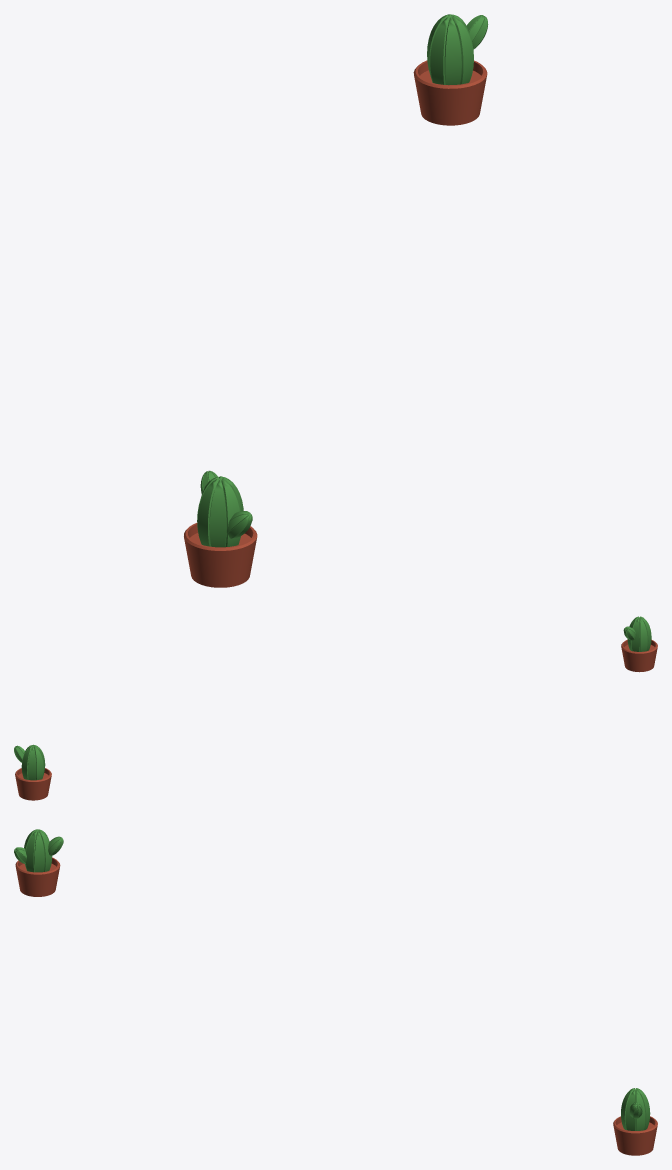
The model's file is cactus.glb.
3 renders of one model, top to bottom at view 1: azimuth 30°, elevation 25°; view 2: azimuth 150°, elevation 25°; view 3: azimuth 270°, elevation 25°, orthographic. The views are drawn at different scales.
Visible parts, largest first — view 1: Cactus1, Cactus2, Cactus1Leaf2, Cactus2Leaf1; view 2: Cactus1, Cactus2, Cactus1Leaf2, Cactus2Leaf1; view 3: Cactus1, Cactus2, Cactus2Leaf1, Cactus1Leaf2.
Part boxes in pixels (box(x1,y1,x2,y2)): Cactus1: box(413, 60, 487, 125); Cactus2: box(184, 523, 257, 587); Cactus1Leaf2: box(427, 14, 473, 85); Cactus2Leaf1: box(197, 476, 243, 547); Cactus1: box(15, 768, 51, 800); Cactus2: box(621, 639, 657, 672); Cactus1Leaf2: box(21, 744, 45, 780); Cactus2Leaf1: box(627, 616, 651, 651); Cactus1: box(613, 1116, 657, 1155); Cactus2: box(15, 857, 60, 896); Cactus2Leaf1: box(24, 829, 52, 872); Cactus1Leaf2: box(621, 1088, 650, 1130).
Size of the model in its own units: 2.11 by 0.4352 by 2.45.
